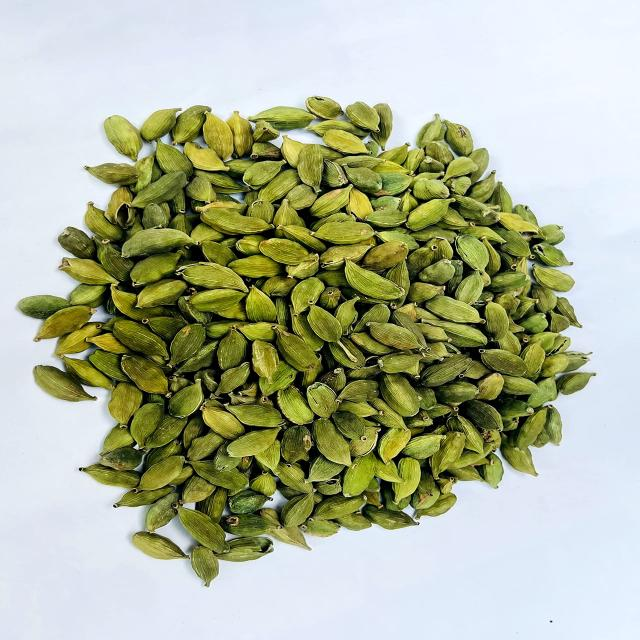Cardamom: (13, 91, 605, 591)
